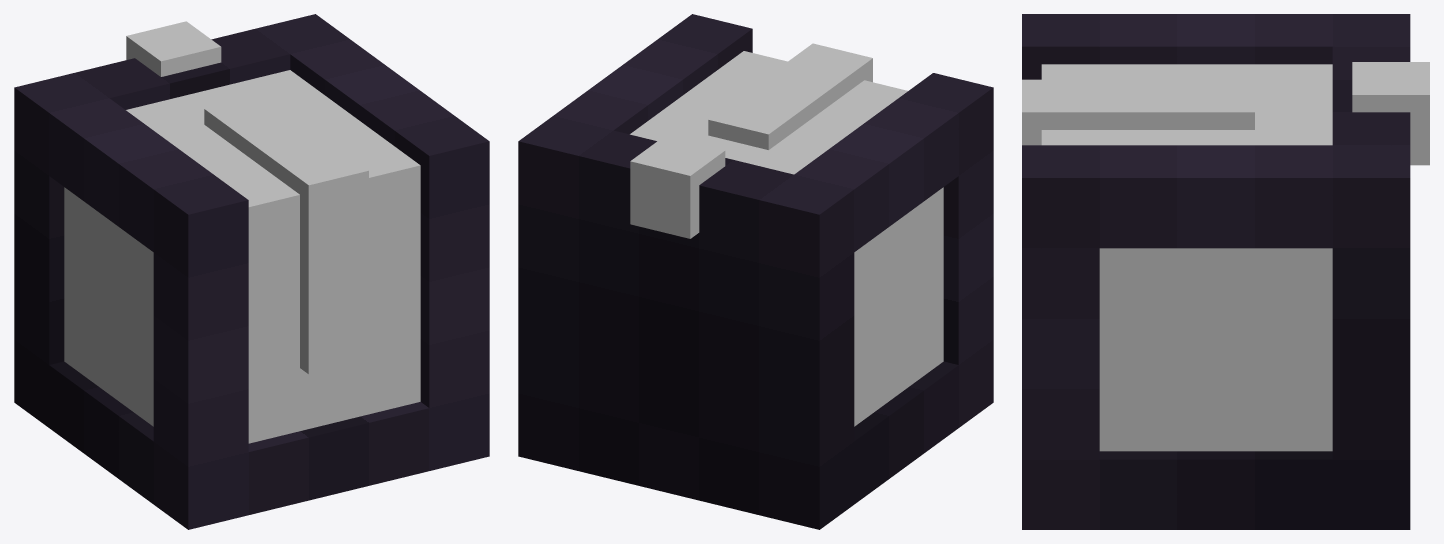
Rendered from head_smart.obj.
3 renders of one model, left to right at view 1: azimuth 30°, elevation 25°; view 2: azimuth 150°, elevation 25°; view 3: azimuth 270°, elevation 25°, orthographic. The views are drawn at different scales.
Visible parts, largest first — view 1: HEAD_SMART_STONE_Cube.064; view 2: HEAD_SMART_STONE_Cube.064; view 3: HEAD_SMART_STONE_Cube.064.
Part boxes in pixels (<box>): HEAD_SMART_STONE_Cube.064: <box>14,14,489,529</box>; HEAD_SMART_STONE_Cube.064: <box>518,14,993,529</box>; HEAD_SMART_STONE_Cube.064: <box>1022,14,1429,529</box>.
Bounding box in the file's own units: 0.3125 × 0.3281 × 0.3281.
